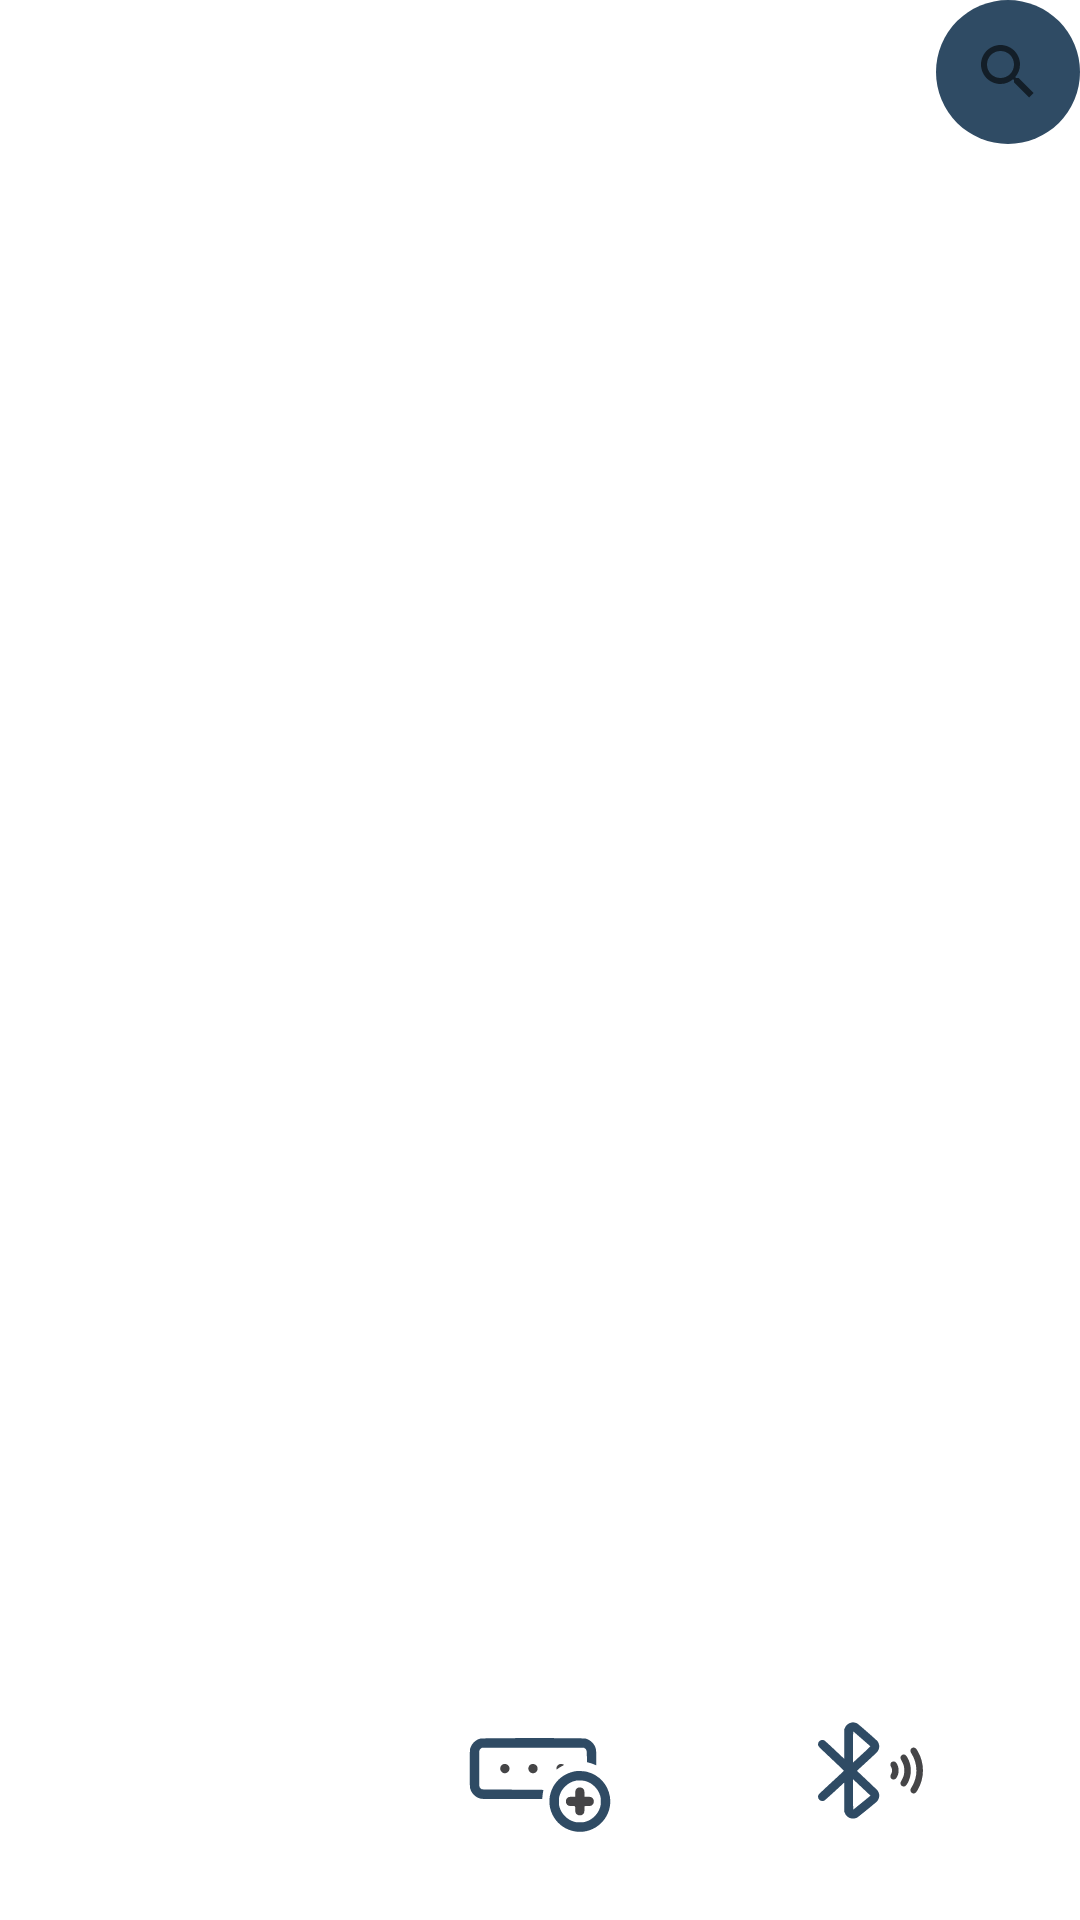

Where to tap for icons on this 1080px×1920px app screen, as (x,y):
add: (540,1785)
